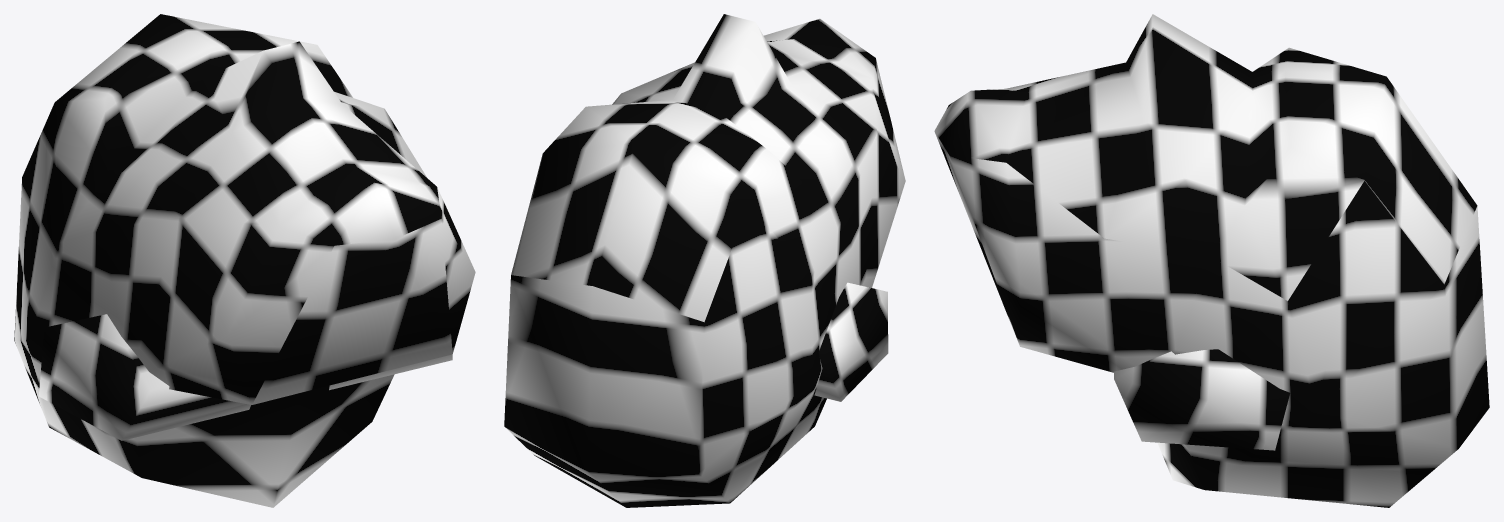
Rendered from infaunhumame0.dae.
3 views of the same model, side by side, from view 1: azimuth 30°, elevation 25°; view 2: azimuth 150°, elevation 25°; view 3: azimuth 270°, elevation 25° (orthographic). The views are drawn at different scales.
Parts seen in each view (by area): view 1: face; view 2: face; view 3: face.
Boxes of the visible parts, bbox=[...] form: face: bbox=[14, 14, 475, 507]; face: bbox=[504, 14, 905, 507]; face: bbox=[934, 14, 1489, 507].
Size of the model in its own units: 0.9743 by 1.34 by 1.22.
Materials: 1 (1 with a texture image).
